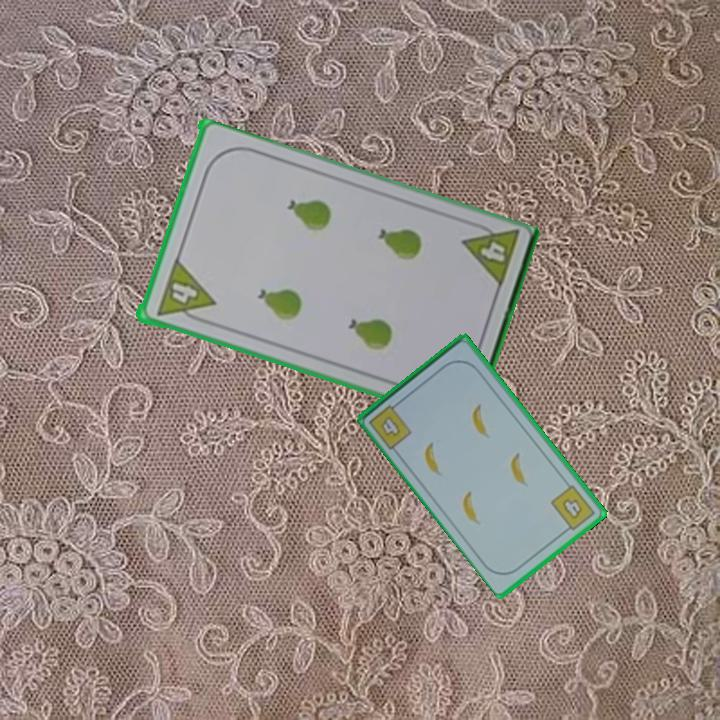4b: (547, 481, 598, 536), (365, 397, 415, 452)
4p: (457, 217, 522, 293), (152, 257, 217, 328)
